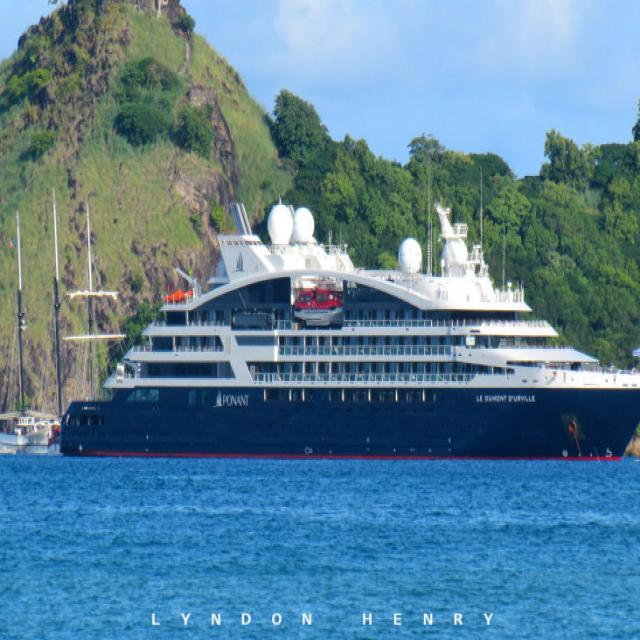cruises: (59, 192, 640, 473)
